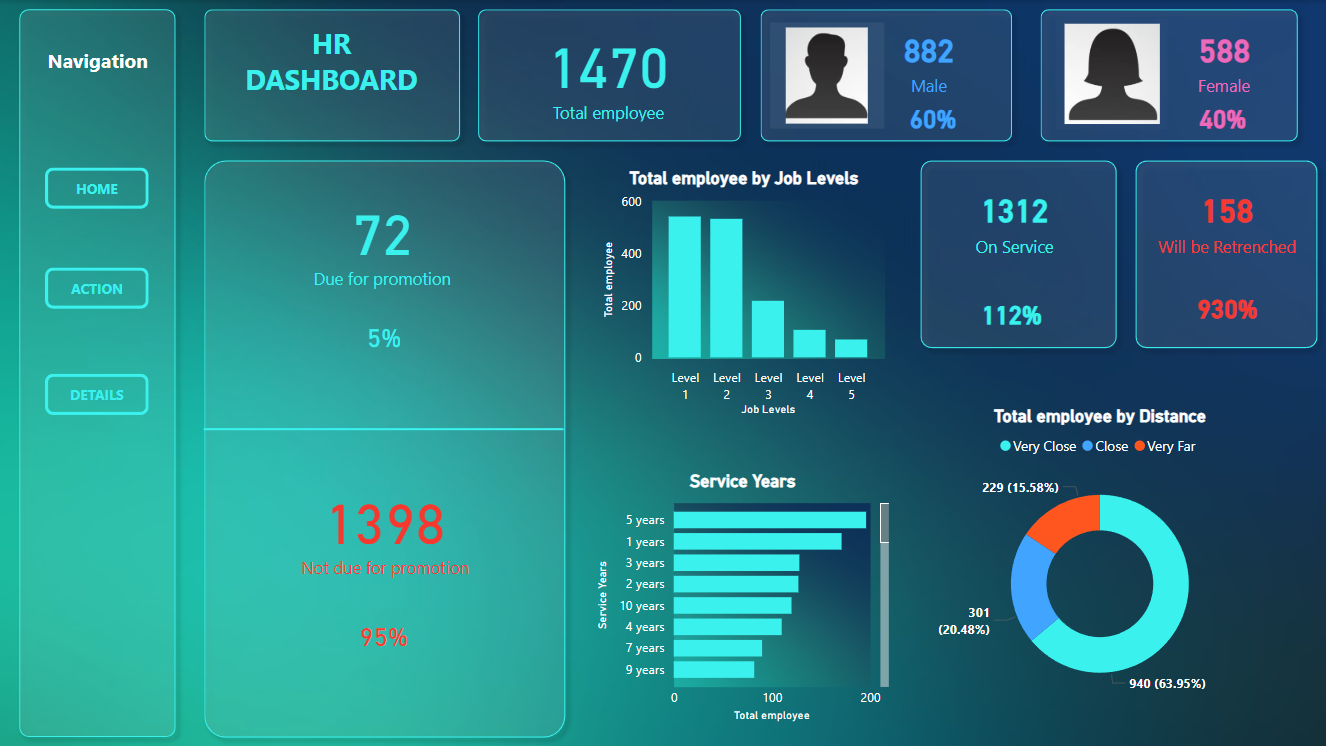

Layout of this report page (visuals, bound fields, positions):
{"tool":"powerbi","page":{"name":"Home ","canvas":[1280,720],"ordinal":0},"visuals":[{"type":"shape","box":[9.6,0,168.8,720.4],"z":0},{"type":"shape","box":[188,0,264.8,145.5],"z":1000},{"type":"shape","box":[452.8,0,271.7,145.5],"z":2000},{"type":"shape","box":[724.5,0,260.7,145.5],"z":3000},{"type":"shape","box":[994.9,0,266.2,145.5],"z":4000},{"type":"shape","box":[188,145.5,366.4,575],"z":5000},{"type":"shape","box":[879.6,145.5,207.2,199],"z":6000},{"type":"shape","box":[1086.8,145.5,193.5,199],"z":7000},{"type":"textbox","box":[209.9,17.8,219.6,87.8],"z":8000},{"type":"card","fields":{"Values":["ALL Measures.Total employee"]},"box":[478.9,17.8,216.8,104.3],"z":9000},{"type":"card","fields":{"Values":["ALL Measures.Male"]},"box":[816.2,17.5,160,78.8],"z":10000},{"type":"card","fields":{"Values":["ALL Measures.Female"]},"box":[1101.2,17.5,160,78.8],"z":11000},{"type":"card","fields":{"Values":["ALL Measures.% Male"]},"box":[847.5,96.2,107.5,36.2],"z":12000},{"type":"card","fields":{"Values":["ALL Measures.% Female"]},"box":[1118.8,96.2,123.8,36.2],"z":13000},{"type":"card","fields":{"Values":["ALL Measures.Due for promotion"]},"box":[209.9,177,318.4,107],"z":14000},{"type":"card","fields":{"Values":["ALL Measures.Not due for promotion"]},"box":[212.5,456.2,318.8,107.5],"z":15000},{"type":"card","fields":{"Values":["ALL Measures.% Due promotion"]},"box":[209.9,290.9,321.1,70],"z":16000},{"type":"card","fields":{"Values":["ALL Measures.% Not Due"]},"box":[210,578.8,321.2,70],"z":17000},{"type":"barChart","title":" Service Years","fields":{"Category":["HR Analytics Data.Service Years"],"Y":["ALL Measures.Total employee"]},"box":[570.8,454.2,292.3,248.4],"z":18000},{"type":"clusteredColumnChart","fields":{"Y":["ALL Measures.Total employee"],"Category":["HR Analytics Data.Job Levels"]},"box":[576.3,161.9,282.7,244.3],"z":19000},{"type":"card","fields":{"Values":["ALL Measures.On Service"]},"box":[896.1,161.9,166,101.5],"z":20000},{"type":"card","fields":{"Values":["ALL Measures.Will be Retrenched"]},"box":[1101.9,161.9,166,101.5],"z":21000},{"type":"card","fields":{"Values":["ALL Measures.% On Service"]},"box":[901.5,273.1,150.9,61.7],"z":22000},{"type":"card","fields":{"Values":["ALL Measures.% Will be retrenched"]},"box":[1101.9,263.5,166,68.6],"z":23000},{"type":"donutChart","title":"Total employee by Distance ","fields":{"Category":["HR Analytics Data.Distance Description"],"Y":["ALL Measures.Total employee"]},"box":[896.1,391.1,330.7,296.4],"z":24000},{"type":"textbox","box":[27.4,41.2,133.1,54.9],"z":25000},{"type":"actionButton","box":[43.9,161.9,100.2,39.8],"z":26000},{"type":"actionButton","box":[43.9,258,100.2,39.8],"z":27000},{"type":"actionButton","box":[43.9,360.9,100.2,39.8],"z":28000},{"type":"image","box":[743.8,21.2,110,102.5],"z":29000},{"type":"image","box":[1020,17.5,107.5,106.2],"z":30000},{"type":"shape","box":[196.2,263.8,347.5,300],"z":31000}]}

Visuals, with their boxes in screenshot pixels (x1, y1, x2, y2), scaled from the page's 1280x720 canvas onto the 1326x746 screenshot:
shape: (10,0,185,745)
shape: (195,0,469,151)
shape: (469,0,751,151)
shape: (751,0,1021,151)
shape: (1031,0,1306,151)
shape: (195,151,574,745)
shape: (911,151,1126,357)
shape: (1126,151,1325,357)
textbox: (217,18,445,109)
card - ALL Measures.Total employee: (496,18,721,127)
card - ALL Measures.Male: (846,18,1011,100)
card - ALL Measures.Female: (1141,18,1307,100)
card - ALL Measures.% Male: (878,100,989,137)
card - ALL Measures.% Female: (1159,100,1287,137)
card - ALL Measures.Due for promotion: (217,183,547,294)
card - ALL Measures.Not due for promotion: (220,473,550,584)
card - ALL Measures.% Due promotion: (217,301,550,374)
card - ALL Measures.% Not Due: (218,600,550,672)
" Service Years" barChart: (591,471,894,728)
clusteredColumnChart - ALL Measures.Total employee x HR Analytics Data.Job Levels: (597,168,890,421)
card - ALL Measures.On Service: (928,168,1100,273)
card - ALL Measures.Will be Retrenched: (1141,168,1313,273)
card - ALL Measures.% On Service: (934,283,1090,347)
card - ALL Measures.% Will be retrenched: (1141,273,1313,344)
"Total employee by Distance " donutChart: (928,405,1271,712)
textbox: (28,43,166,100)
actionButton: (45,168,149,209)
actionButton: (45,267,149,309)
actionButton: (45,374,149,415)
image: (771,22,884,128)
image: (1057,18,1168,128)
shape: (203,273,563,584)
